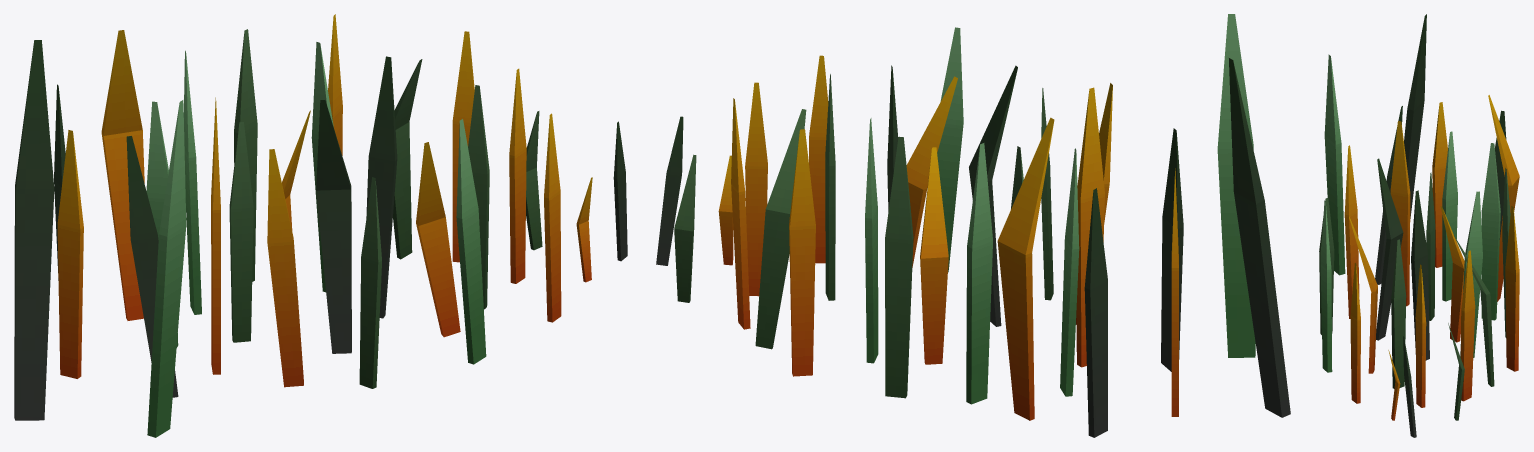
File: tufo_misto.glb
The picture shows the model from 3 angles, left to right: view 1: azimuth 30°, elevation 25°; view 2: azimuth 150°, elevation 25°; view 3: azimuth 270°, elevation 25°; orthographic projection. The views are drawn at different scales.
Visible parts, largest first — view 1: MixedGrassLumpLargeB; view 2: MixedGrassLumpLargeB; view 3: MixedGrassLumpLargeB.
Boxes of the visible parts, x1=… form: MixedGrassLumpLargeB: x1=14, y1=14, x2=627, y2=437; MixedGrassLumpLargeB: x1=656, y1=14, x2=1290, y2=437; MixedGrassLumpLargeB: x1=1319, y1=14, x2=1519, y2=437.
Bounding box in the file's own units: 0.8586 × 0.4737 × 0.3599.
1 material, 1 textured.
